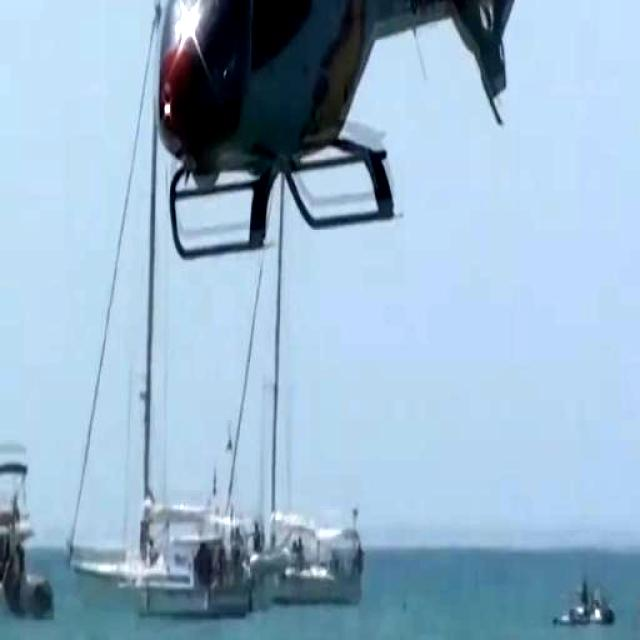drone: (151, 0, 616, 261)
